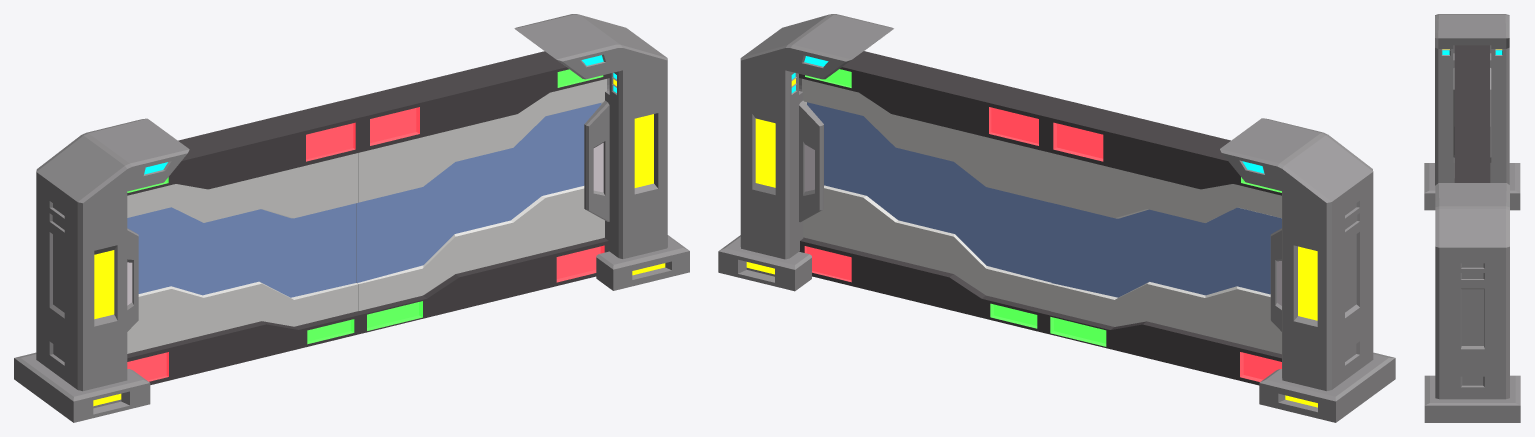
The model's file is Sci-fi_Door.fbx.
3 views of the same model, side by side, from view 1: azimuth 30°, elevation 25°; view 2: azimuth 150°, elevation 25°; view 3: azimuth 270°, elevation 25° (orthographic). The views are drawn at different scales.
Visible parts, largest first — view 1: Door.002, Door.001, Ayak, Ayak.001; view 2: Door.002, Door.001, Ayak, Ayak.001; view 3: Ayak.001, Ayak, Door.001, Door.002.
Part boxes in pixels (x1,y1,x2,y2): Door.002: (341, 51, 609, 333); Door.001: (127, 101, 362, 384); Ayak: (14, 118, 189, 422); Ayak.001: (514, 14, 689, 290); Door.002: (799, 51, 1067, 333); Door.001: (1046, 101, 1281, 385); Ayak: (1220, 118, 1395, 422); Ayak.001: (718, 14, 893, 291); Ayak.001: (1424, 183, 1520, 422); Ayak: (1424, 14, 1520, 210); Door.001: (1454, 45, 1489, 182); Door.002: (1455, 126, 1490, 182).
Bounding box in the file's own units: 953 × 350 × 160.
